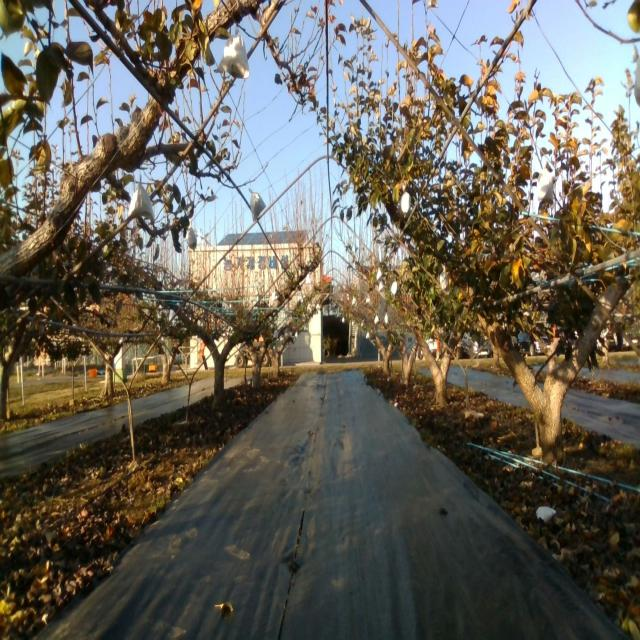pearbags: (217, 31, 250, 81), (128, 186, 155, 224), (248, 188, 266, 223), (537, 168, 554, 202), (399, 190, 411, 220), (186, 223, 197, 250)
